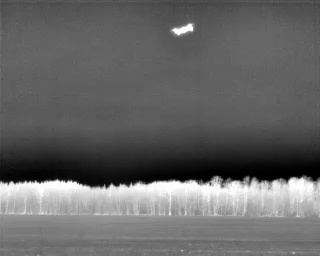DRONE: (167, 17, 200, 42)
